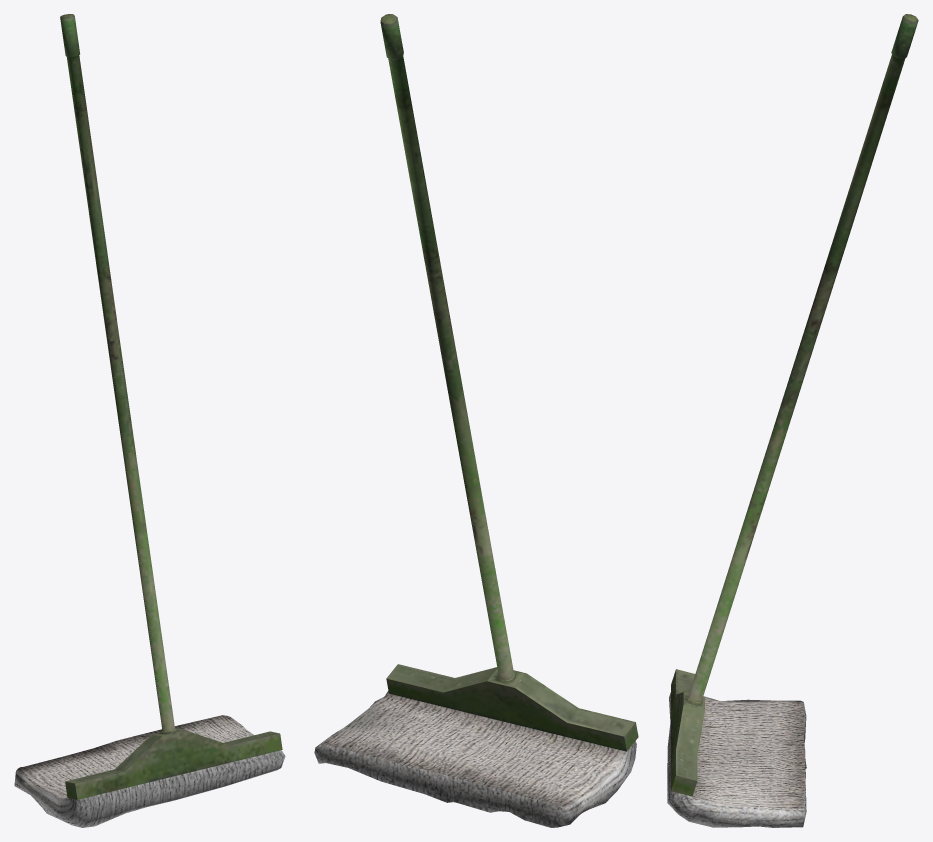
The model's file is sm20_003_cleaningmop01a.fbx.
3 renders of one model, left to right at view 1: azimuth 30°, elevation 25°; view 2: azimuth 150°, elevation 25°; view 3: azimuth 270°, elevation 25°, orthographic. The views are drawn at different scales.
Parts seen in each view (by area): view 1: LOD_1_Group_0_Sub_1__sm20_003_CleaningMop01A_A_Mat; view 2: LOD_1_Group_0_Sub_1__sm20_003_CleaningMop01A_A_Mat; view 3: LOD_1_Group_0_Sub_1__sm20_003_CleaningMop01A_A_Mat.
Boxes of the visible parts, bbox=[...] form: LOD_1_Group_0_Sub_1__sm20_003_CleaningMop01A_A_Mat: bbox=[14, 14, 285, 827]; LOD_1_Group_0_Sub_1__sm20_003_CleaningMop01A_A_Mat: bbox=[314, 14, 638, 827]; LOD_1_Group_0_Sub_1__sm20_003_CleaningMop01A_A_Mat: bbox=[667, 14, 918, 827].
Size of the model in its own units: 0.4255 by 1.32 by 0.3933.
